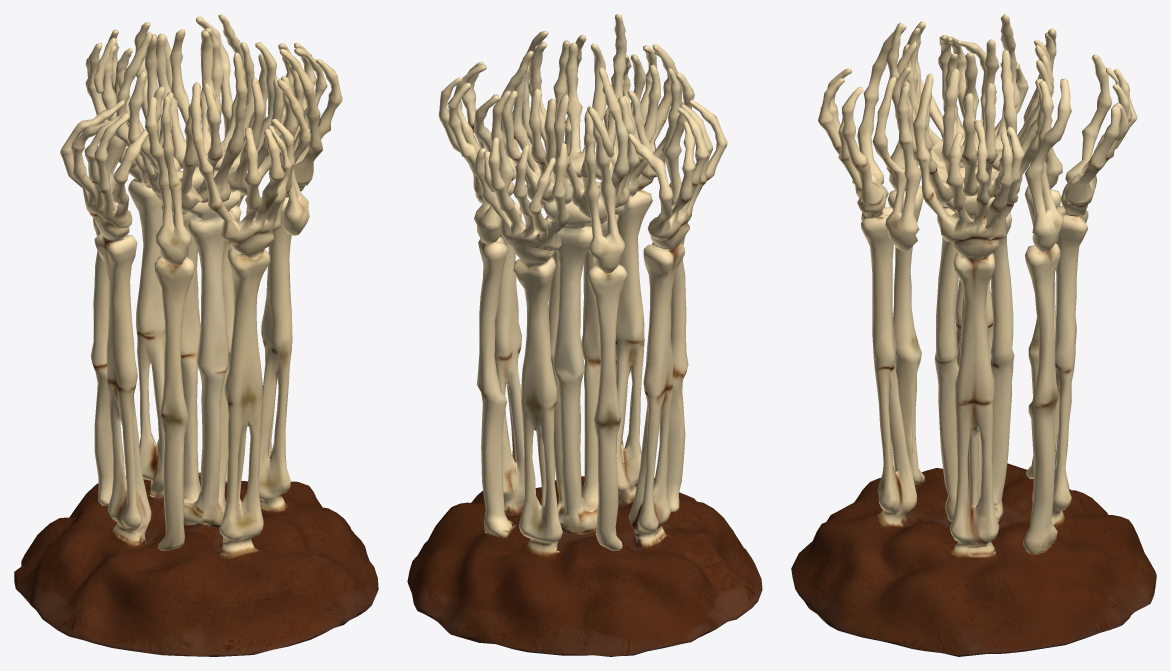
The model's file is pit_grasping_hands.glb.
3 views of the same model, side by side, from view 1: azimuth 30°, elevation 25°; view 2: azimuth 150°, elevation 25°; view 3: azimuth 270°, elevation 25° (orthographic). The views are drawn at different scales.
Size of the model in its own units: 1.14 by 1.9 by 1.13.
Materials: 1 (1 with a texture image).
